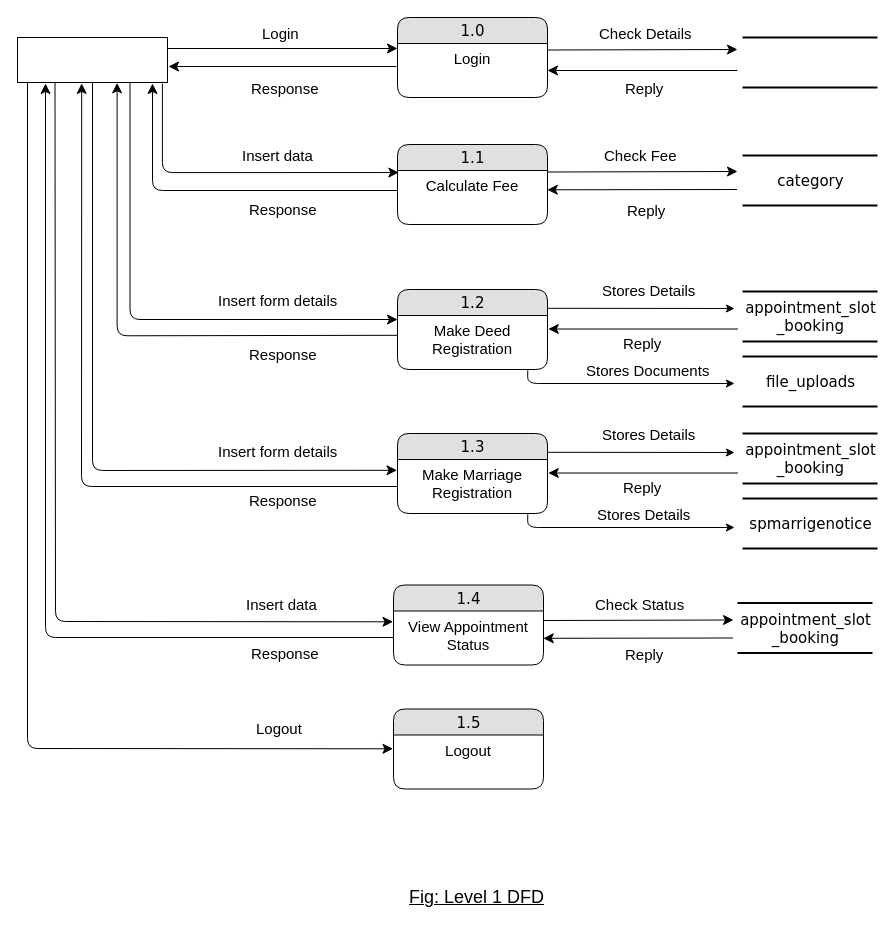
The diagram is 896 pixels wide and 942 high, and some of its shapes have lost their labels. Here are the shapes that lost their labels. From the top down, the centre of each, then its label:
At (92,59): "User".
At (809,62): "Firebase".
